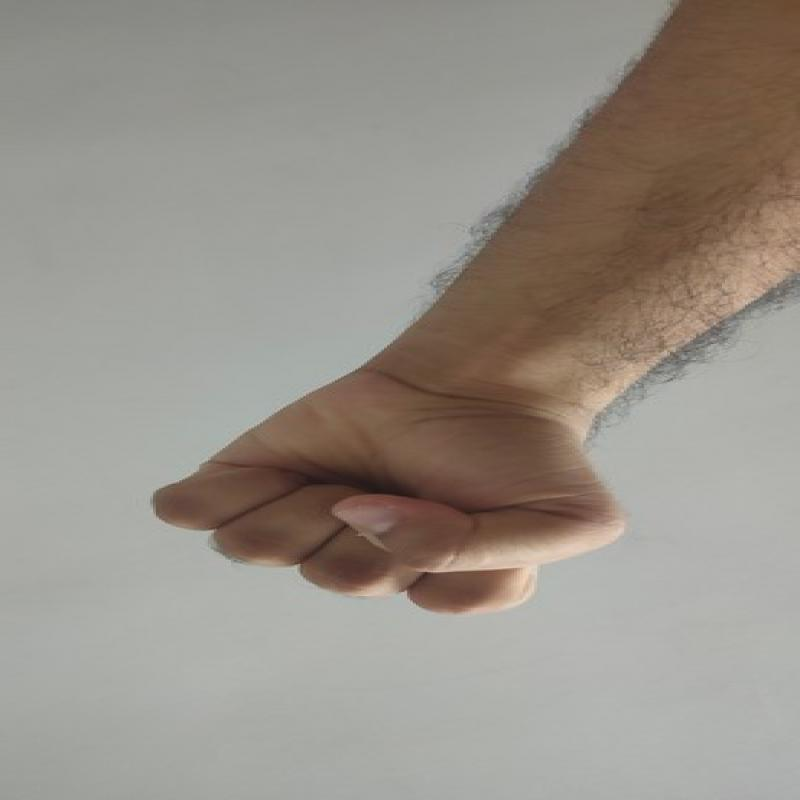Mushti: (142, 368, 644, 634)
